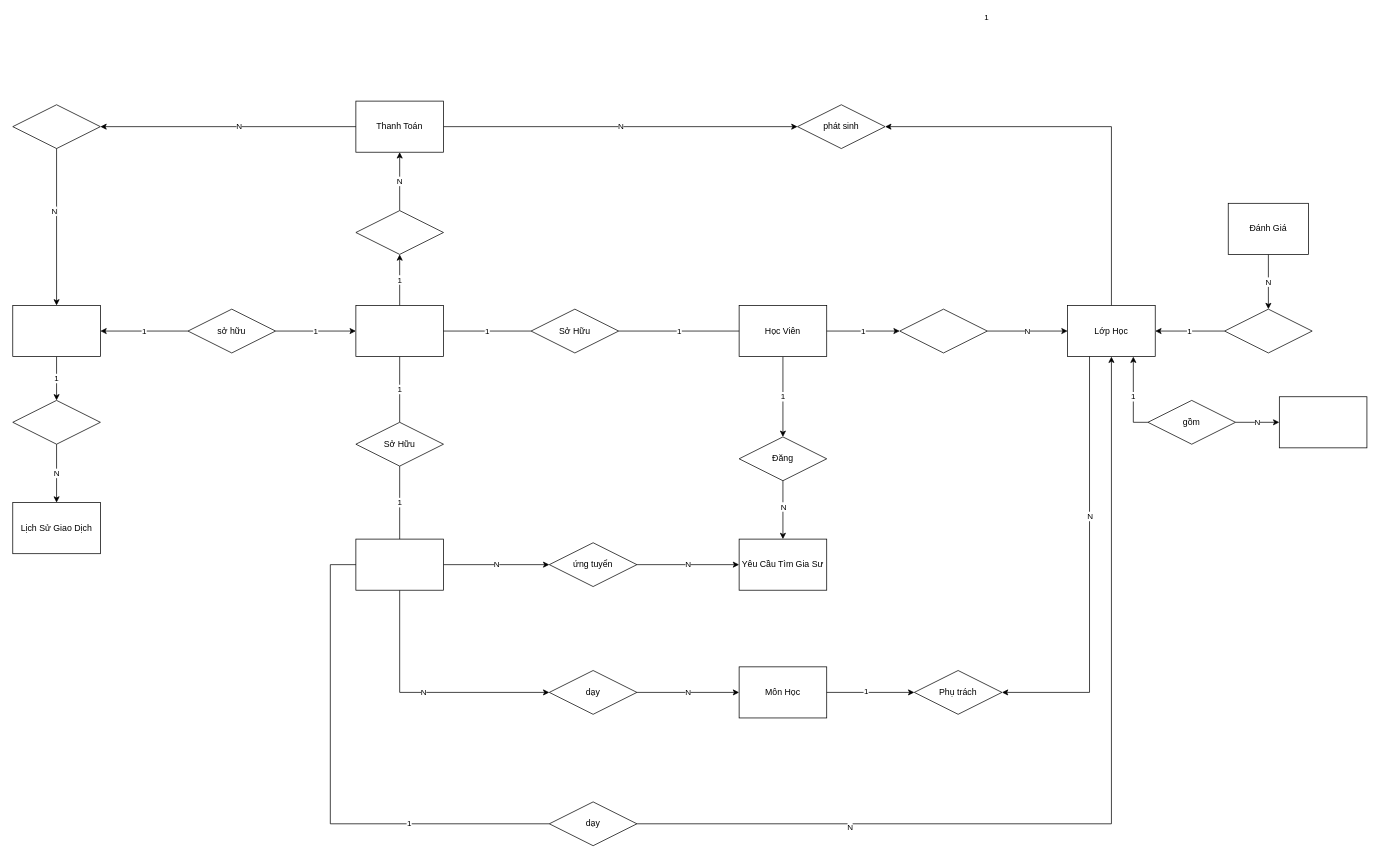
Some shapes in this 1380 by 858 pixel diagram are drawn without their labels. Each missing label, with the centre of its shape:
"Buổi Học" goes at (1323,422).
"có" goes at (1268,330).
"ghi nhận" goes at (56,422).
"Gia Sư" goes at (399,564).
"học" goes at (943,330).
"Thông qua" goes at (56,126).
"thực hiện" goes at (399,232).
"Tài Khoản" goes at (399,331).
"Ví Điện Tử" goes at (56,331).
